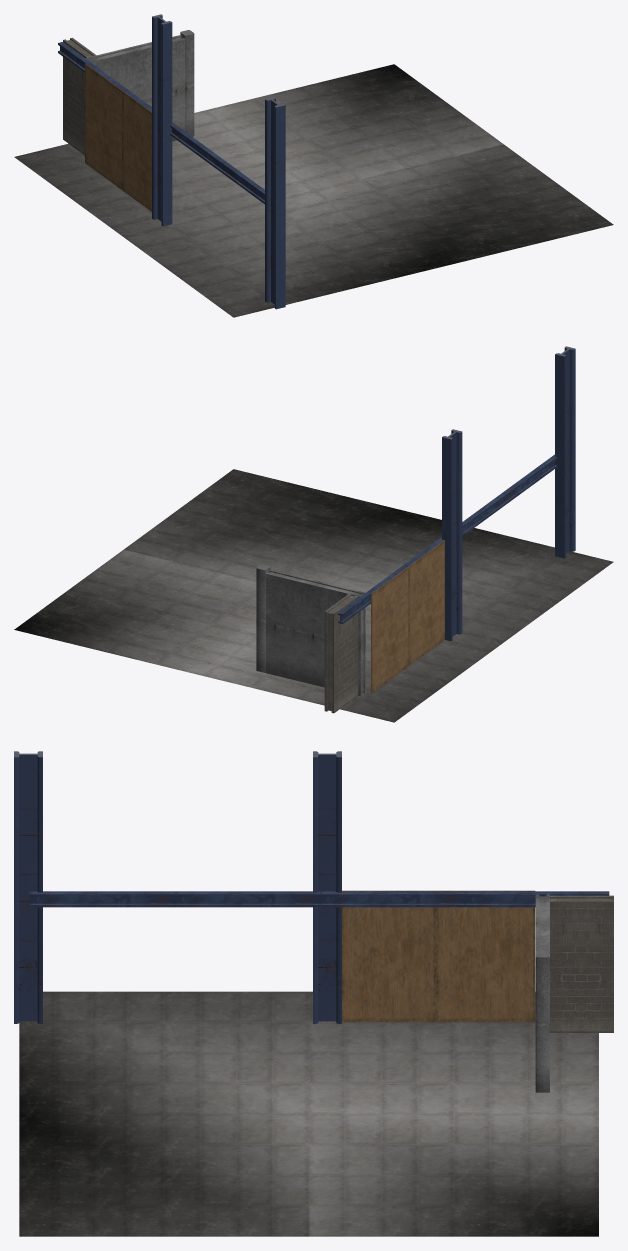
Rendered from BuildingMap_2_1.gltf.
3 views of the same model, one above another, from view 1: azimuth 30°, elevation 25°; view 2: azimuth 150°, elevation 25°; view 3: azimuth 270°, elevation 25° (orthographic). The views are drawn at different scales.
Visible parts, largest first — view 1: SM_Floors_Plain_37, SM_Floors_Plain_38, SM_Floors_Plain_45, SM_Floors_Plain_46, SM_Building_Pieces_2_SteelRudder112, SM_Building_Pieces_2_SteelRudder109, SM_Wall_Inside_42, SM_BP_WallCon_4x19, SM_Wall_Inside_43, SM_BP_WallCon_2x7, SM_Concrete_Column17, SM_Building_Pieces_2_SteelRudder223 (+2 smaller); view 2: SM_Floors_Plain_37, SM_Floors_Plain_38, SM_Floors_Plain_45, SM_Floors_Plain_46, SM_BP_WallCon_4x19, SM_Building_Pieces_2_SteelRudder112, SM_Building_Pieces_2_SteelRudder109, SM_Wall_Inside_42, SM_Wall_Inside_43, SM_BP_WallCon_2x7, SM_Concrete_Column17, SM_Building_Pieces_2_SteelRudder224 (+2 smaller); view 3: SM_Floors_Plain_37, SM_Floors_Plain_38, SM_Floors_Plain_45, SM_Floors_Plain_46, SM_Wall_Inside_42, SM_Wall_Inside_43, SM_BP_WallCon_2x7, SM_Building_Pieces_2_SteelRudder112, SM_Building_Pieces_2_SteelRudder109, SM_Building_Pieces_2_SteelRudder222, SM_Building_Pieces_2_SteelRudder224, SM_Building_Pieces_2_SteelRudder223 (+3 smaller).
Boxes of the visible parts, x1,y1,x2,y2 form: SM_Floors_Plain_37: (314,144,613,271); SM_Floors_Plain_38: (204,64,503,190); SM_Floors_Plain_45: (124,191,423,317); SM_Floors_Plain_46: (14,110,313,237); SM_Building_Pieces_2_SteelRudder112: (265,97,285,309); SM_Building_Pieces_2_SteelRudder109: (152,14,172,226); SM_Wall_Inside_42: (85,63,122,190); SM_BP_WallCon_4x19: (84,35,185,157); SM_Wall_Inside_43: (123,91,151,211); SM_BP_WallCon_2x7: (63,37,96,154); SM_Concrete_Column17: (180,30,194,136); SM_Building_Pieces_2_SteelRudder223: (170,122,226,172); SM_Floors_Plain_37: (124,469,423,583); SM_Floors_Plain_38: (14,549,256,675); SM_Floors_Plain_45: (330,515,613,641); SM_Floors_Plain_46: (204,608,503,722); SM_BP_WallCon_4x19: (265,569,365,696); SM_Building_Pieces_2_SteelRudder112: (555,346,575,558); SM_Building_Pieces_2_SteelRudder109: (442,429,462,641); SM_Wall_Inside_42: (371,566,409,693); SM_Wall_Inside_43: (409,540,444,665); SM_BP_WallCon_2x7: (324,593,358,713); SM_Concrete_Column17: (256,564,270,672); SM_Building_Pieces_2_SteelRudder224: (503,454,557,503); SM_Floors_Plain_37: (19,1114,309,1236); SM_Floors_Plain_38: (309,1114,598,1236); SM_Floors_Plain_45: (19,991,309,1114); SM_Floors_Plain_46: (309,991,598,1114); SM_Wall_Inside_42: (435,890,535,1022); SM_Wall_Inside_43: (342,890,435,1022); SM_BP_WallCon_2x7: (548,895,613,1032); SM_Building_Pieces_2_SteelRudder112: (14,751,42,1023); SM_Building_Pieces_2_SteelRudder109: (313,751,341,1023); SM_Building_Pieces_2_SteelRudder222: (319,891,464,907); SM_Building_Pieces_2_SteelRudder224: (29,891,174,907); SM_Building_Pieces_2_SteelRudder223: (174,891,319,907).
Size of the model in its own units: 16 by 8.12 by 16.56.
Materials: 8 (8 with a texture image).
